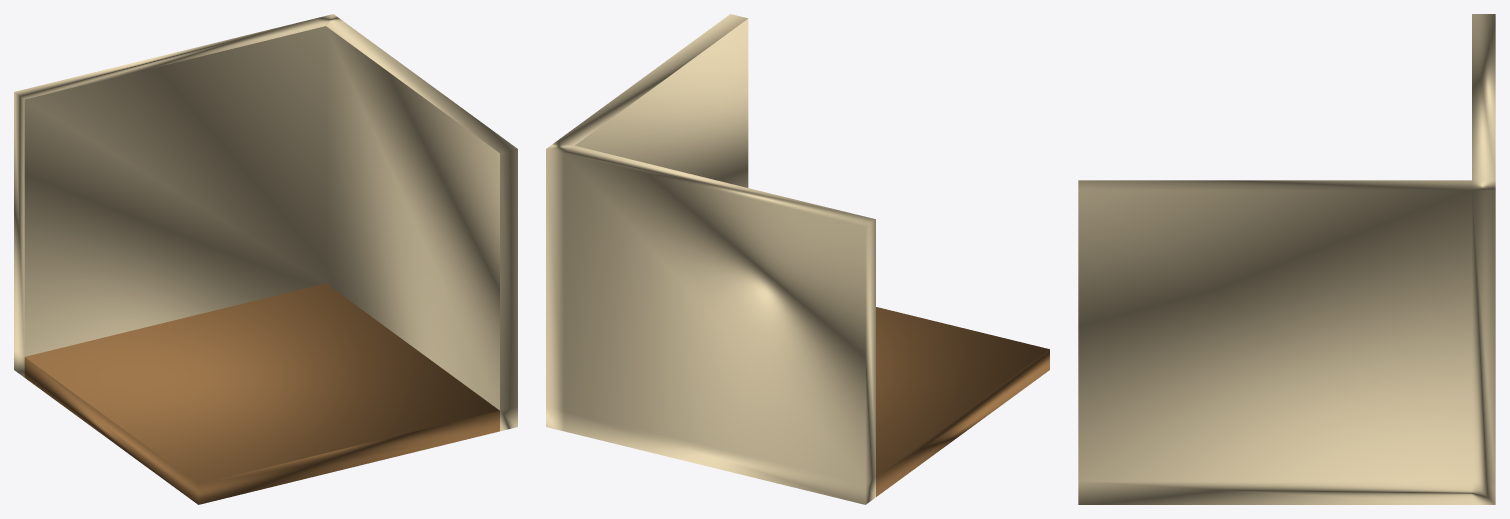
Rendered from baseRoom.glb.
3 views of the same model, side by side, from view 1: azimuth 30°, elevation 25°; view 2: azimuth 150°, elevation 25°; view 3: azimuth 270°, elevation 25° (orthographic). The views are drawn at different scales.
Visible parts, largest first — view 1: Flooring; view 2: Flooring; view 3: Flooring.
Boxes of the visible parts, x1,y1,x2,y2 form: Flooring: [14, 14, 517, 504]; Flooring: [546, 14, 1049, 504]; Flooring: [1078, 14, 1495, 504].
Size of the model in its own units: 2 by 1.66 by 2.
